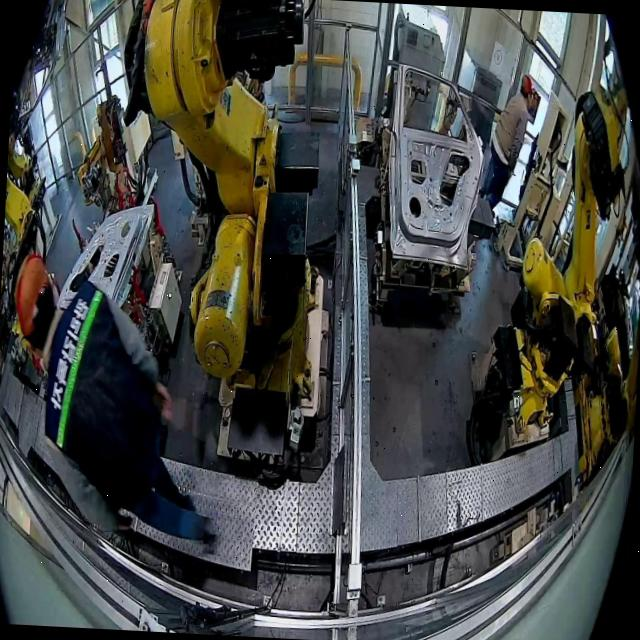Person: (2, 251, 232, 551), (478, 72, 540, 223)
